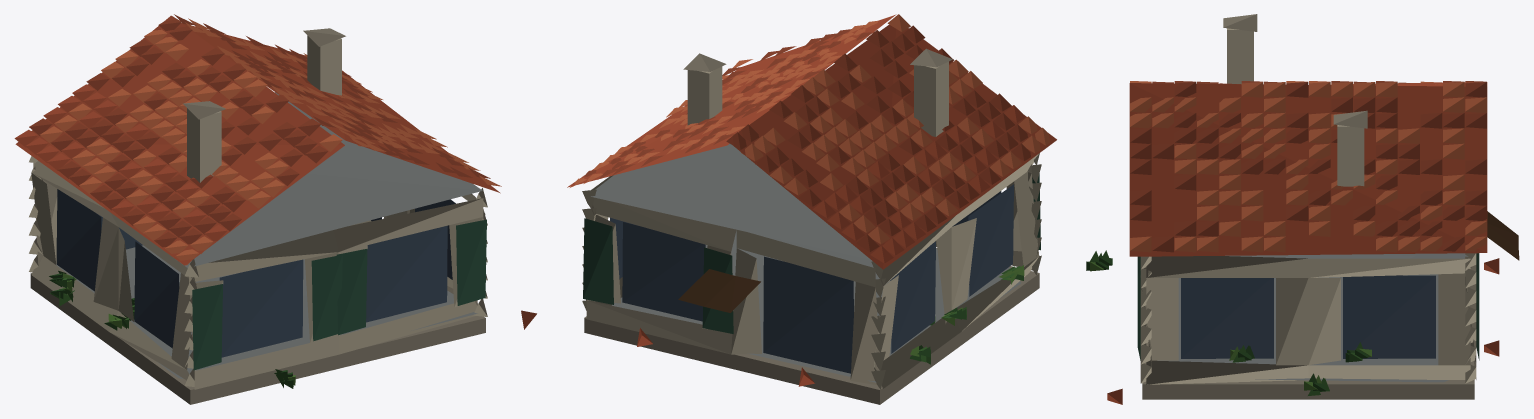
The model's file is farmhouse.glb.
3 views of the same model, side by side, from view 1: azimuth 30°, elevation 25°; view 2: azimuth 150°, elevation 25°; view 3: azimuth 270°, elevation 25° (orthographic). The views are drawn at different scales.
Size of the model in its own units: 5.52 by 3.58 by 5.42.
